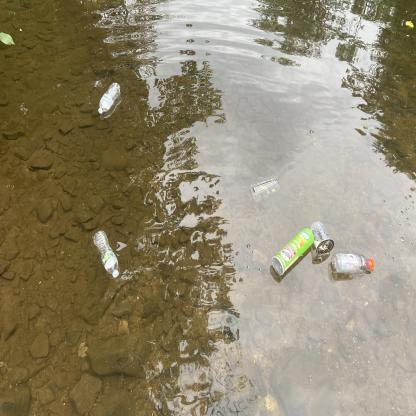trash: (266, 224, 320, 281), (89, 224, 122, 282), (324, 249, 380, 279), (245, 173, 286, 204), (306, 218, 338, 257), (95, 76, 122, 116)
